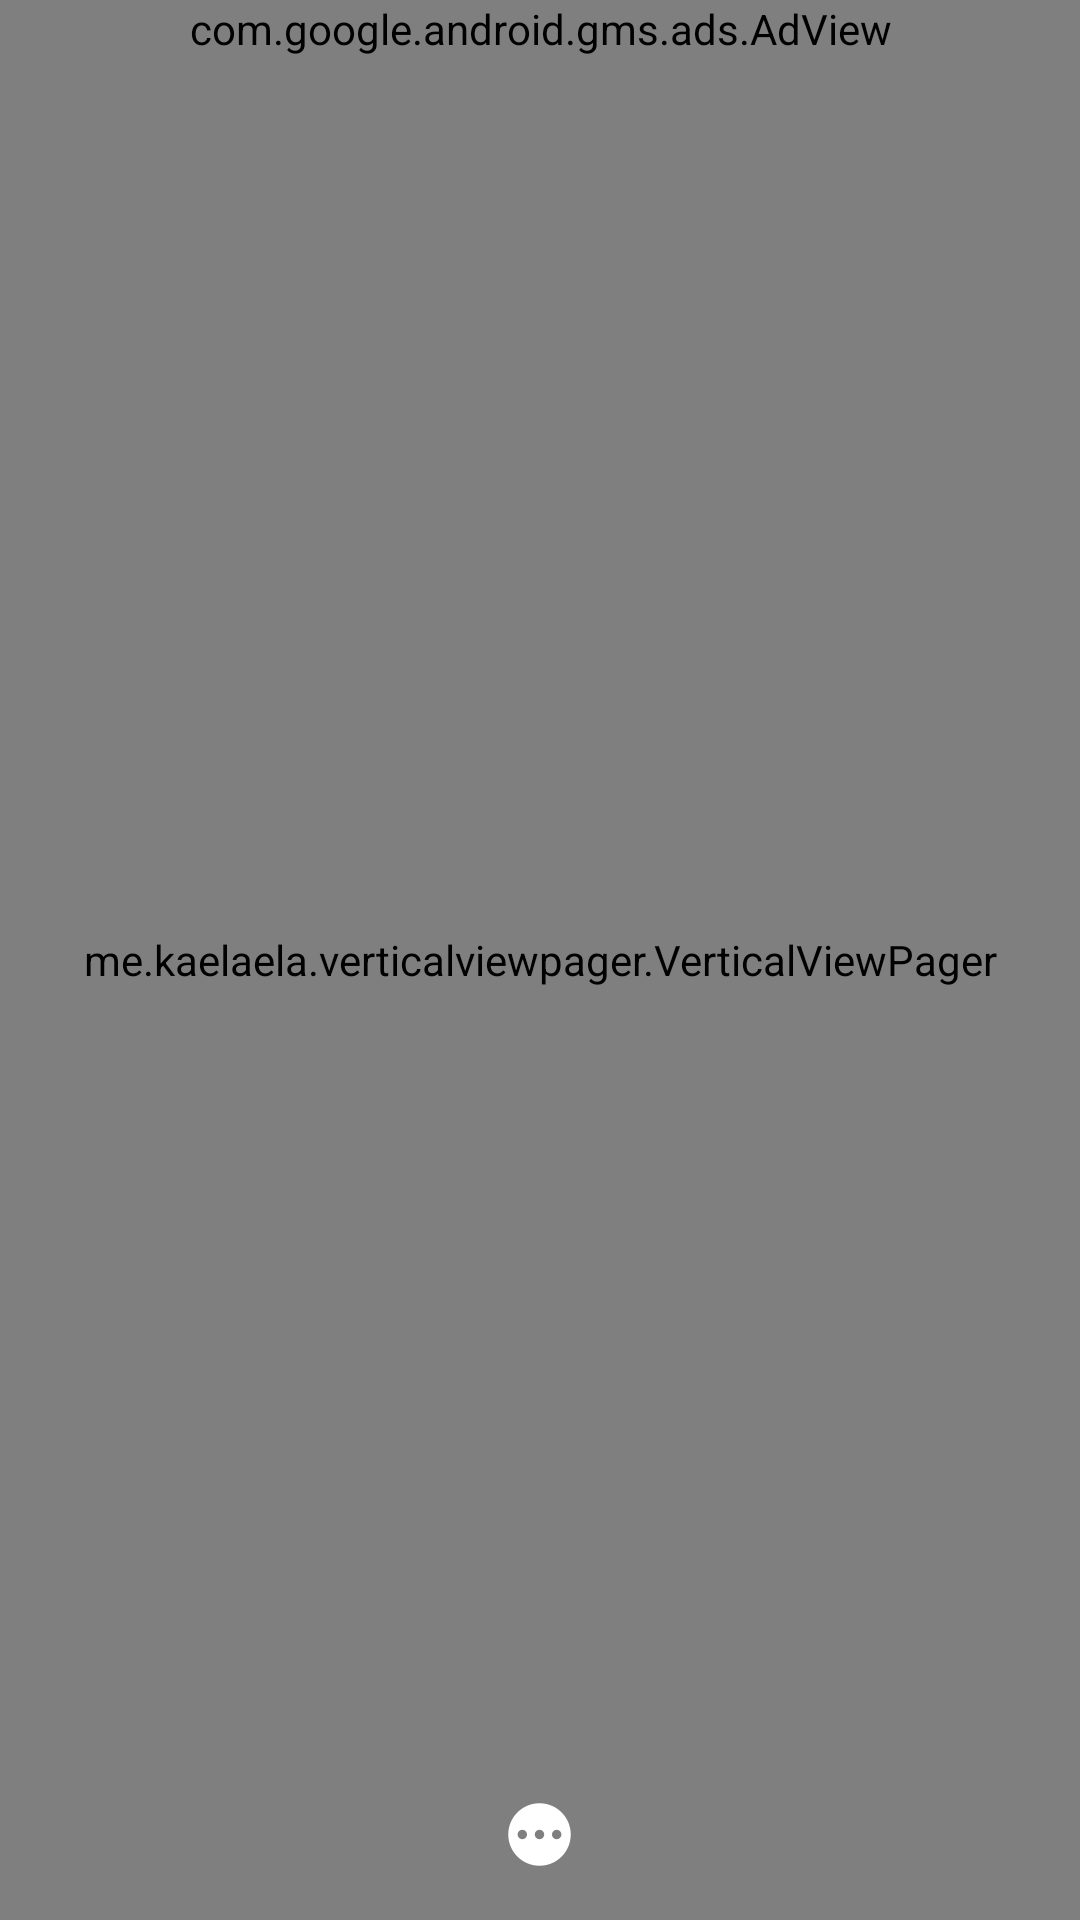

Icon bounding boxes for this 1080×1920 phone screenshot, format (x1, y1, x2, y2):
menu: (508, 1803, 571, 1866)
